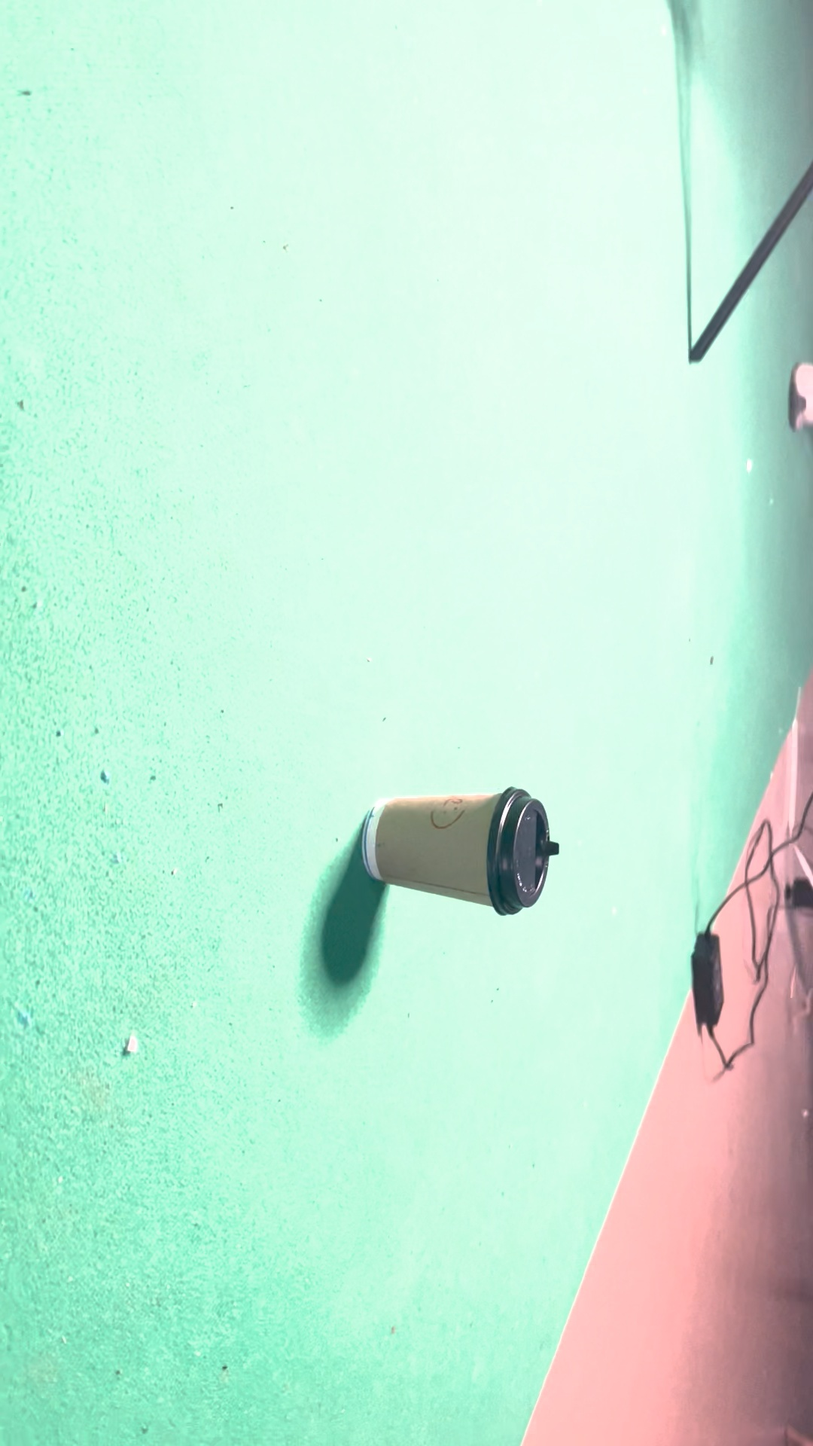cup: (394, 770, 467, 1109)
